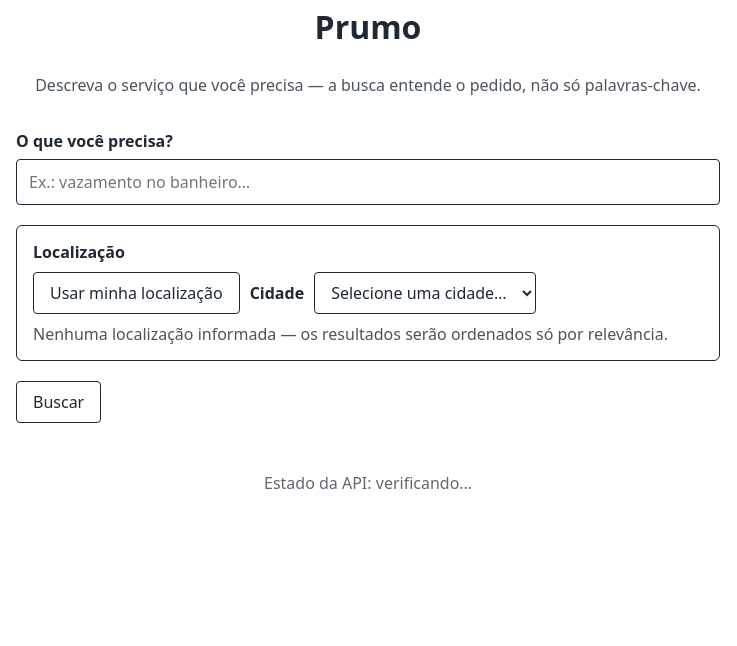
Test: App — tela de busca › falha de rede: aviso de erro genérico
In the field labelled "O que você precisa?": x=368, y=182 [16,159,720,205], type "vazamento no banheiro"
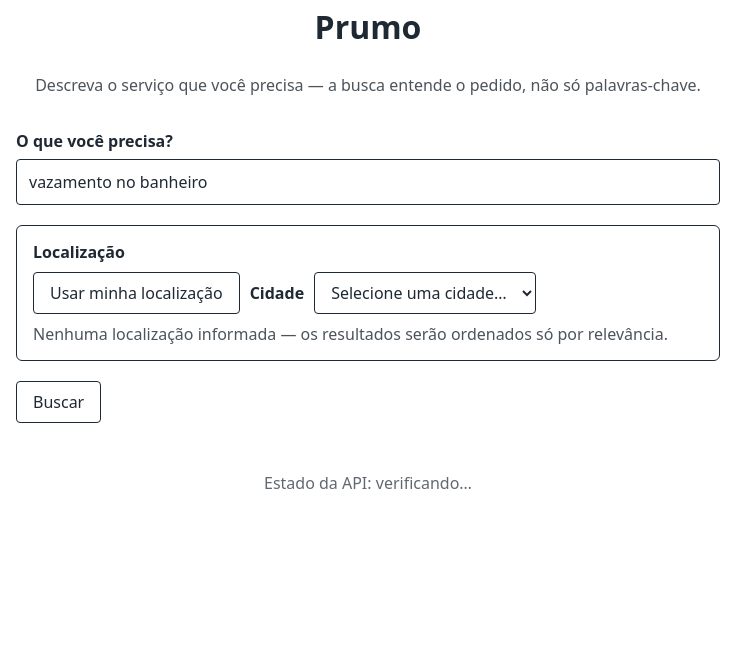
Click the button "Buscar": x=59, y=402 [16,381,101,423]
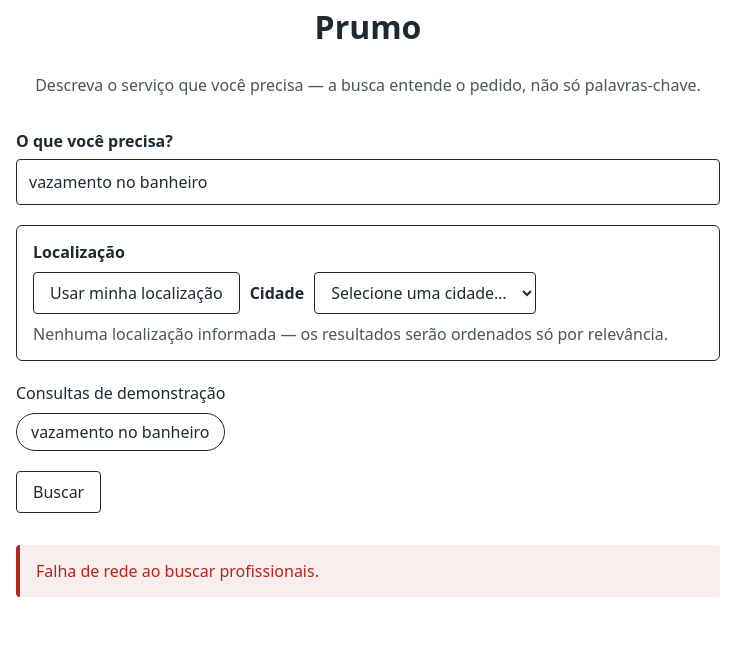
Now the text "Falha de rede ao buscar profissionais." is shown, box [16,545,720,597]
